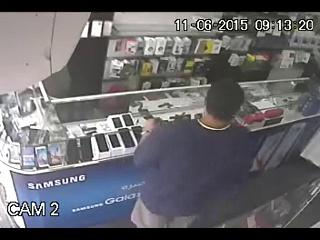Normal: (128, 79, 259, 227)
